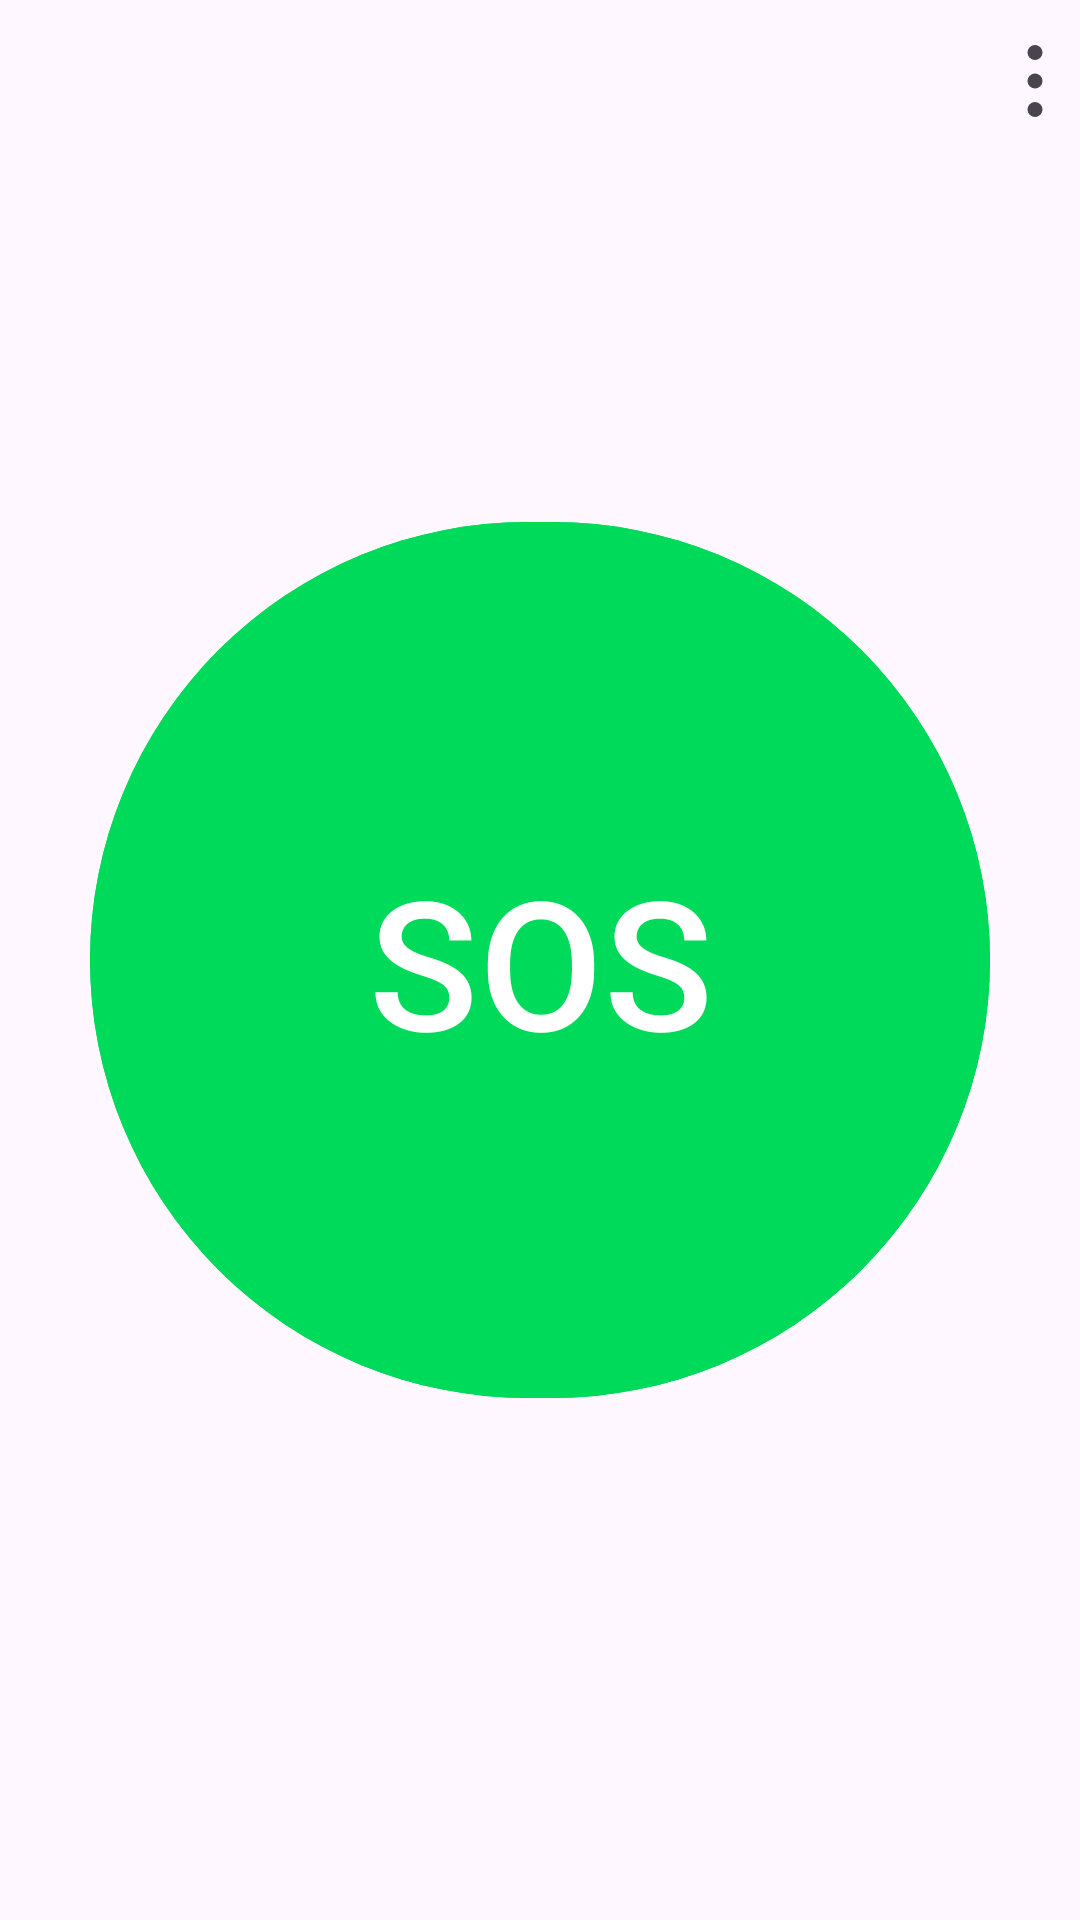

Icons on this 1080 x 1920 Android screen, each with its box as [x1,y1,x2,y2]:
menudotsvertical: [1027,45,1043,117]
